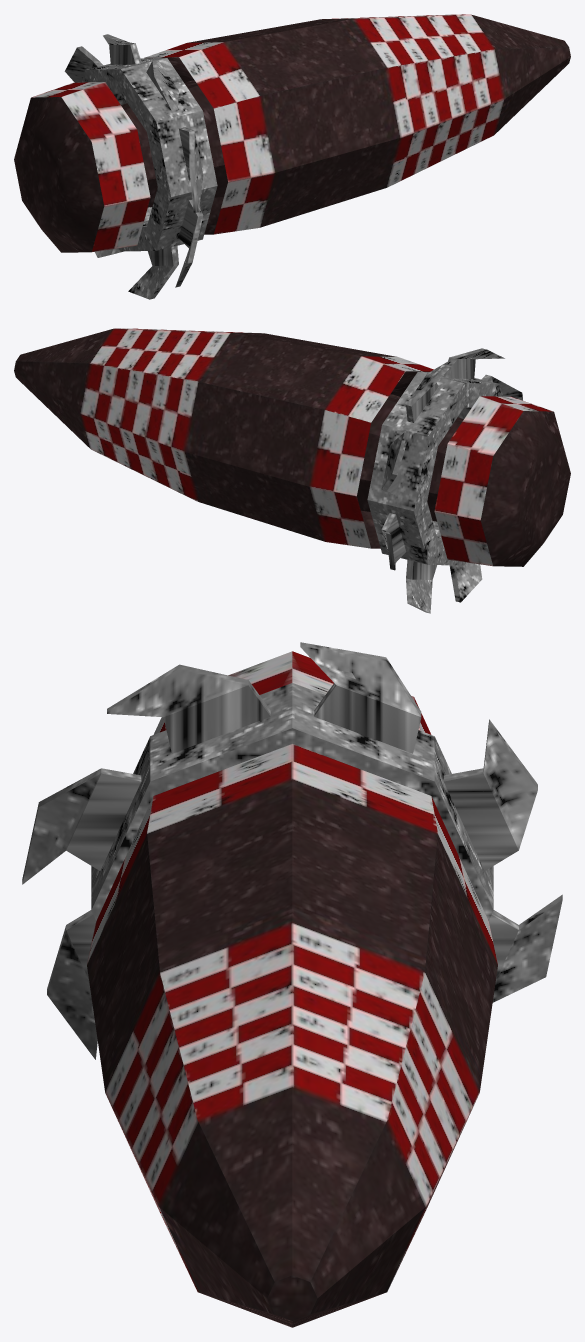
Rendered from BasicSeriousAmmo.fbx.
The picture shows the model from 3 angles, top to bottom: view 1: azimuth 30°, elevation 25°; view 2: azimuth 150°, elevation 25°; view 3: azimuth 270°, elevation 25°; orthographic projection. The views are drawn at different scales.
Parts seen in each view (by area): view 1: BasicSeriousAmmo, Tube; view 2: BasicSeriousAmmo, Tube; view 3: BasicSeriousAmmo, Tube.
Boxes of the visible parts, <box> form: BasicSeriousAmmo: <box>14,14,570,252</box>; Tube: <box>64,34,217,299</box>; BasicSeriousAmmo: <box>14,328,570,566</box>; Tube: <box>367,348,522,613</box>; BasicSeriousAmmo: <box>87,651,497,1327</box>; Tube: <box>22,642,562,1059</box>.
Bounding box in the file's own units: 90.08 × 40.31 × 40.31.
1 material, 1 textured.
